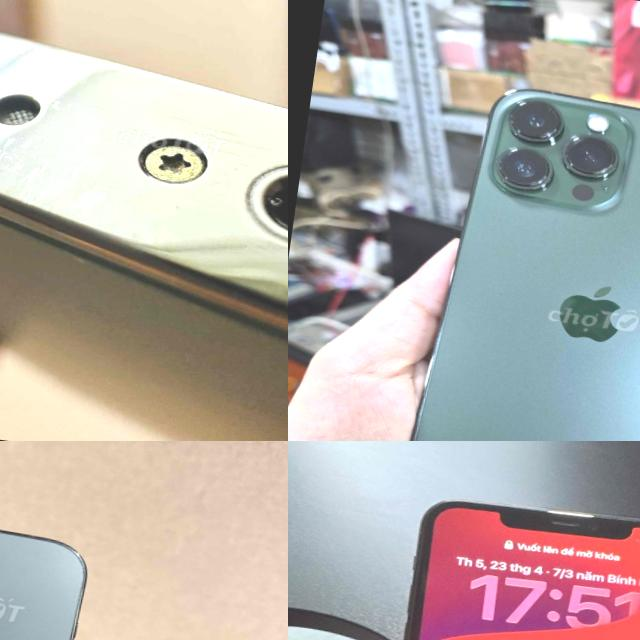gen_11: (350, 484, 640, 640)
gen_12_13: (0, 0, 288, 441), (388, 74, 640, 441)
gen_14: (0, 482, 111, 640)
